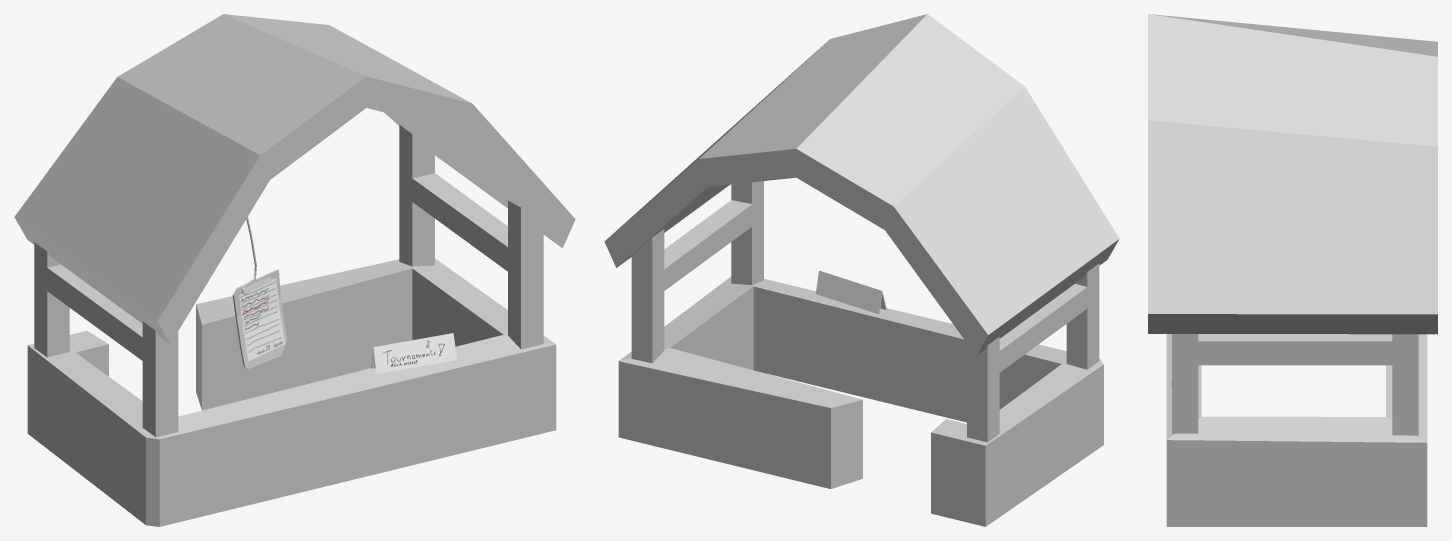
Rendered from tourney.glb.
3 views of the same model, side by side, from view 1: azimuth 30°, elevation 25°; view 2: azimuth 150°, elevation 25°; view 3: azimuth 270°, elevation 25° (orthographic). The views are drawn at different scales.
Parts seen in each view (by area): view 1: tourney, clipboard, paper; view 2: tourney, paper; view 3: tourney.
Boxes of the visible parts, left/top/right/bottom form: tourney: left=14, top=14, right=575, bottom=526; clipboard: left=232, top=269, right=287, bottom=369; paper: left=371, top=333, right=457, bottom=373; tourney: left=604, top=14, right=1119, bottom=526; paper: left=815, top=270, right=886, bottom=314; tourney: left=1148, top=14, right=1437, bottom=526.
Size of the model in its own units: 8.36 by 7.81 by 4.95.
Materials: 2 (2 with a texture image).
